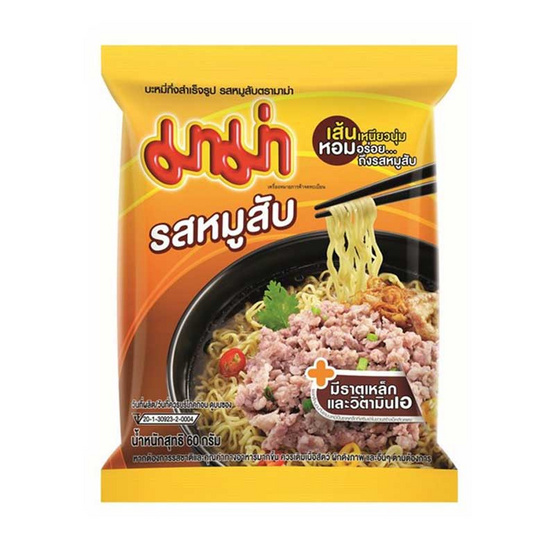Snack: (93, 38, 469, 511)
